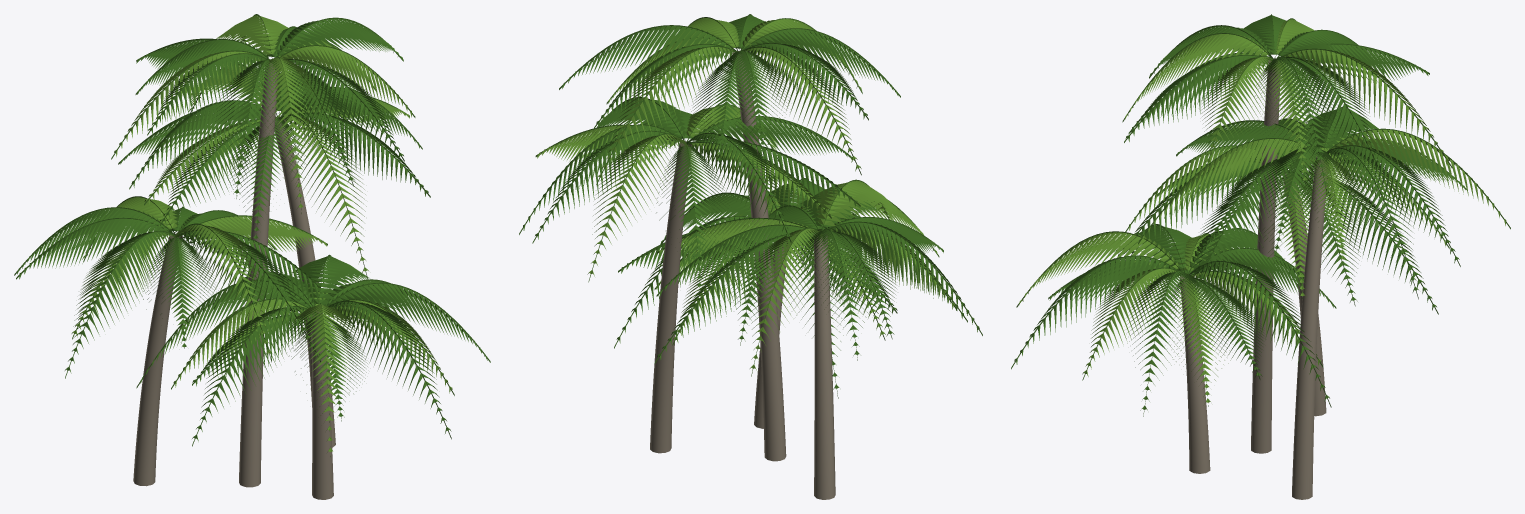
The model's file is palmeiras.fbx.
3 renders of one model, left to right at view 1: azimuth 30°, elevation 25°; view 2: azimuth 150°, elevation 25°; view 3: azimuth 270°, elevation 25°, orthographic.
Parts seen in each view (by area): view 1: Palmeira_1, Palmeira_3, Palmeira_4, Palmeira_2; view 2: Palmeira_2, Palmeira_1, Palmeira_3, Palmeira_4; view 3: Palmeira_2, Palmeira_1, Palmeira_4, Palmeira_3.
Boxes of the visible parts, x1,y1,x2,y2 form: Palmeira_1: (111,14,415,487); Palmeira_3: (14,196,354,486); Palmeira_4: (136,254,490,499); Palmeira_2: (118,64,430,447); Palmeira_2: (519,97,860,453); Palmeira_1: (559,14,900,461); Palmeira_3: (654,179,982,499); Palmeira_4: (614,178,967,428); Palmeira_2: (1138,106,1510,499); Palmeira_1: (1122,14,1452,453); Palmeira_4: (1011,224,1336,473); Palmeira_3: (1115,133,1449,416).
Size of what is drawn, in the model's own units: 667 by 686 by 732.
